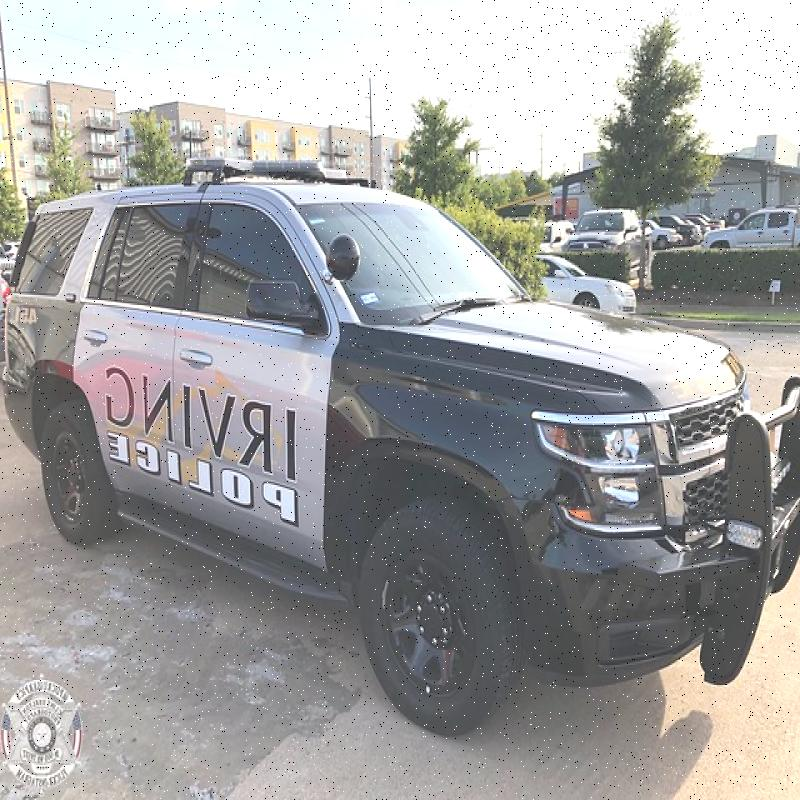AmbulanceSiren: (195, 148, 362, 194)
